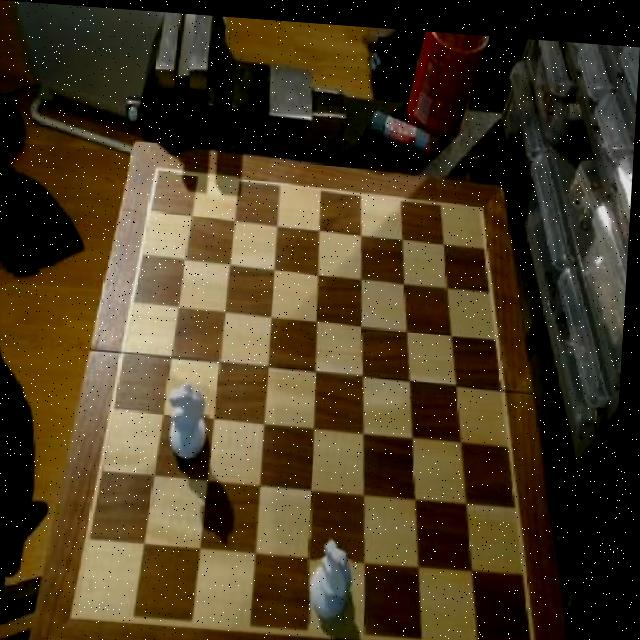white-king: (167, 375, 217, 465), (312, 531, 362, 621)
